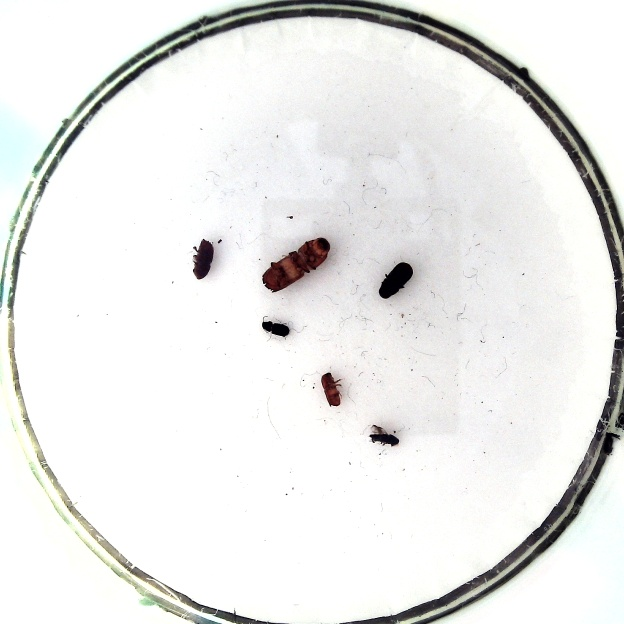acuminatus: (261, 320, 289, 337), (369, 433, 399, 446)
armandi: (378, 262, 413, 299)
boerner: (261, 237, 330, 292)
coleoptera: (321, 372, 340, 406)
linnaeus: (193, 239, 214, 280)
